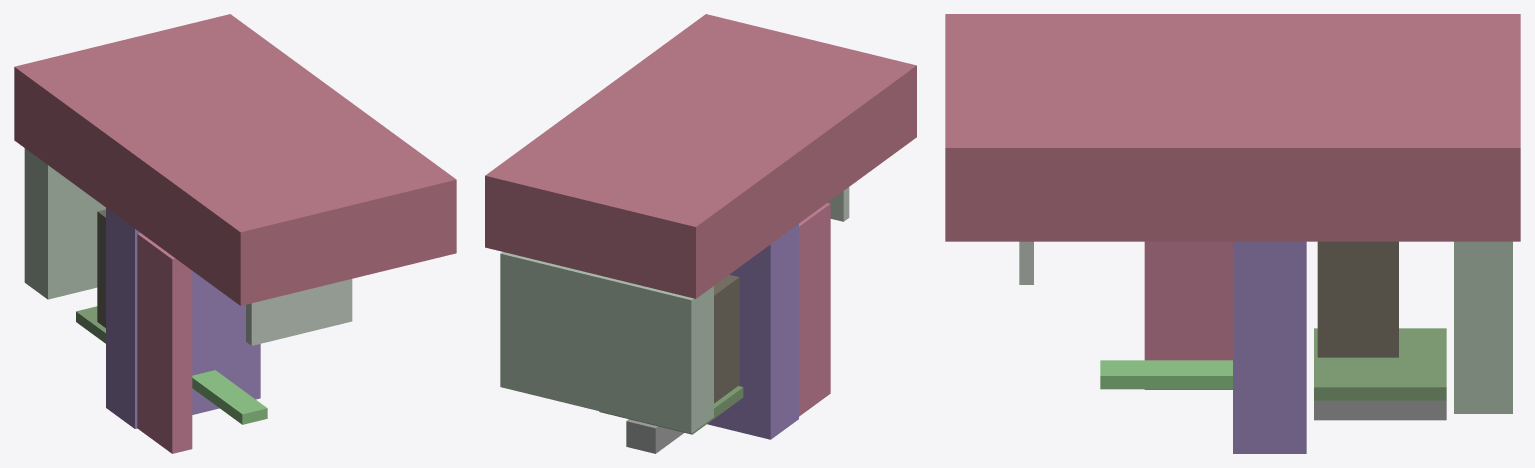
3 renders of one model, left to right at view 1: azimuth 30°, elevation 25°; view 2: azimuth 150°, elevation 25°; view 3: azimuth 270°, elevation 25°, orthographic. The views are drawn at different scales.
Visible parts, largest first — view 1: world; view 2: world; view 3: world.
Part boxes in pixels (box(x1,y1,x2,y2)): world: box(14, 14, 456, 453); world: box(485, 14, 916, 453); world: box(945, 14, 1520, 453).
Bounding box in the file's own units: 4.3 × 5.35 × 7.8.
